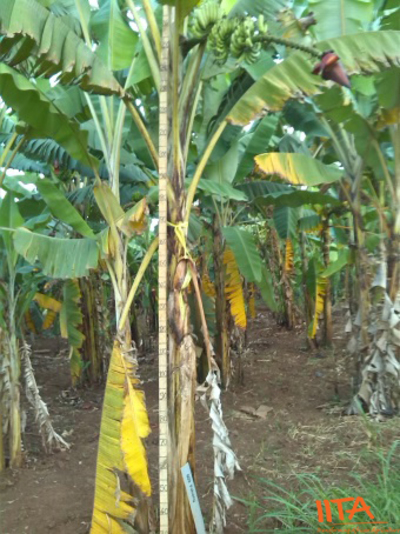bananaHand: (182, 1, 273, 69)
